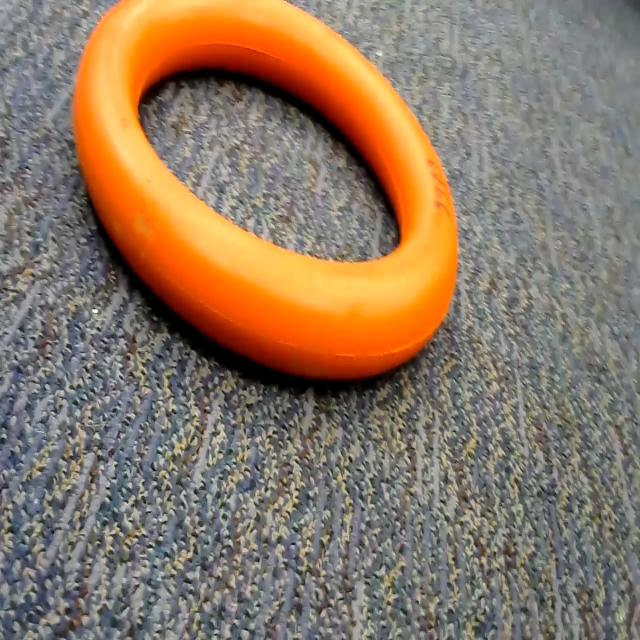note: (70, 0, 480, 400)
